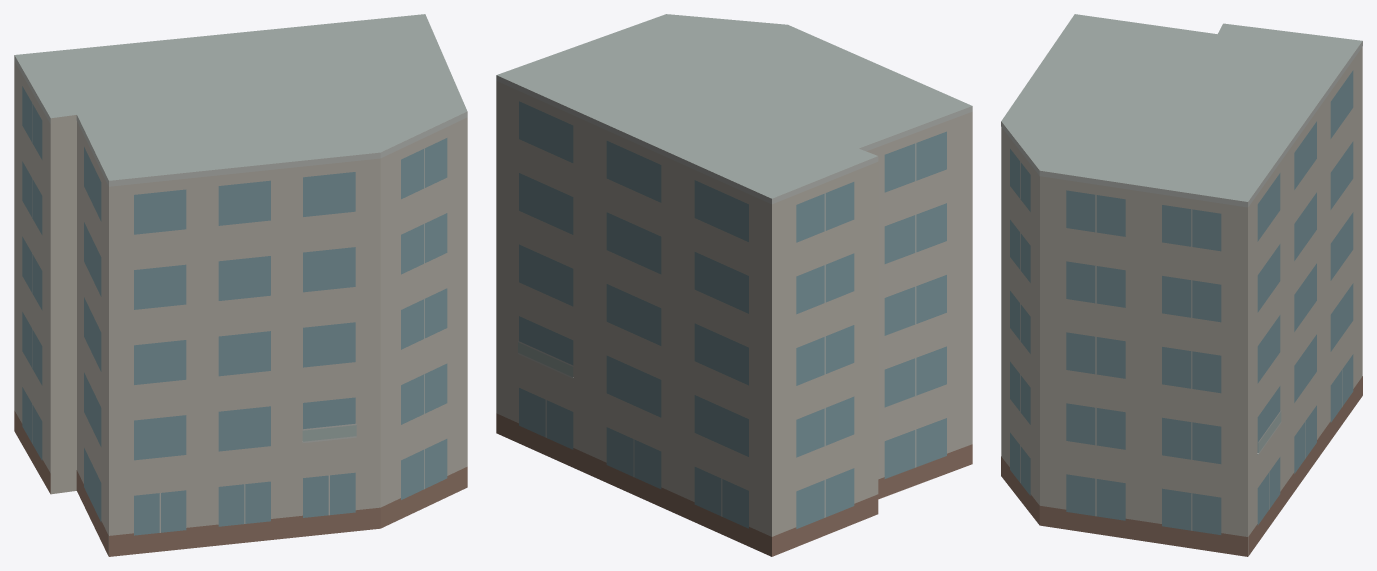
Rendered from survey-upis-32874472.glb.
3 views of the same model, side by side, from view 1: azimuth 30°, elevation 25°; view 2: azimuth 150°, elevation 25°; view 3: azimuth 270°, elevation 25° (orthographic). The views are drawn at different scales.
Visible parts, largest first — view 1: survey-upis-32874472.tmp; view 2: survey-upis-32874472.tmp; view 3: survey-upis-32874472.tmp.
Part boxes in pixels (x1=…): survey-upis-32874472.tmp: x1=14, y1=14, x2=467, y2=556; survey-upis-32874472.tmp: x1=496, y1=14, x2=972, y2=556; survey-upis-32874472.tmp: x1=1001, y1=14, x2=1362, y2=556.
Bounding box in the file's own units: 17.74 × 15.6 × 14.41.
